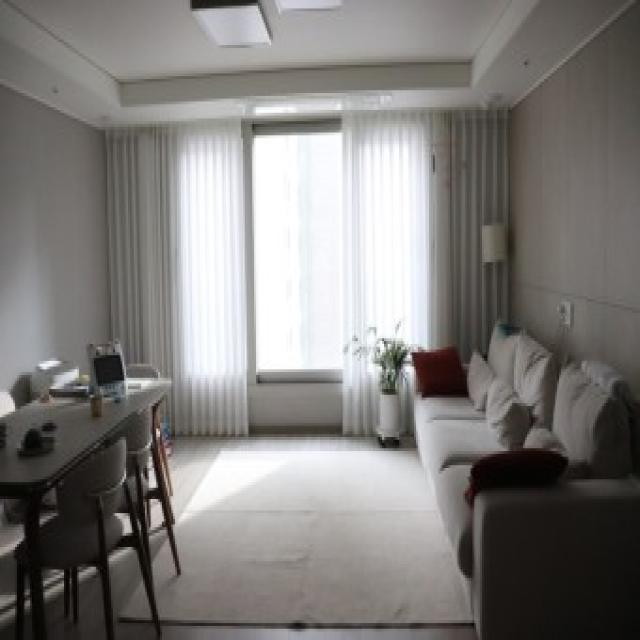Chair: (29, 442, 162, 622)
Sofa: (416, 321, 640, 640)
Table: (0, 372, 184, 620)
window: (110, 115, 480, 353)
